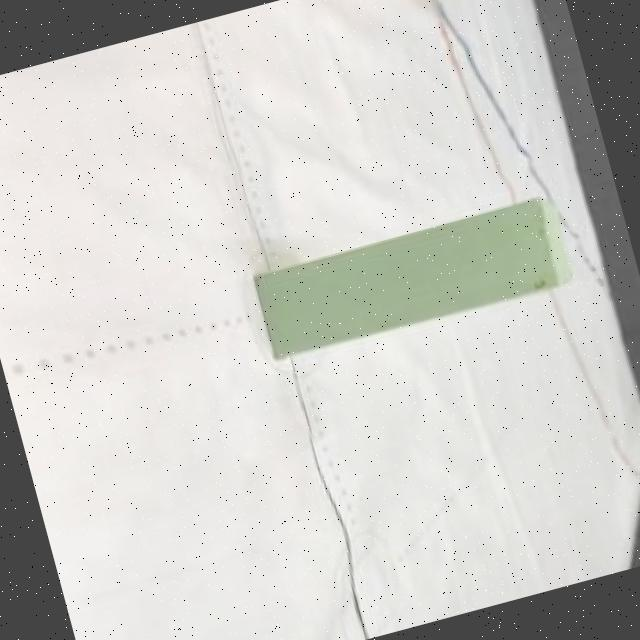greenbox: (247, 195, 574, 361)
